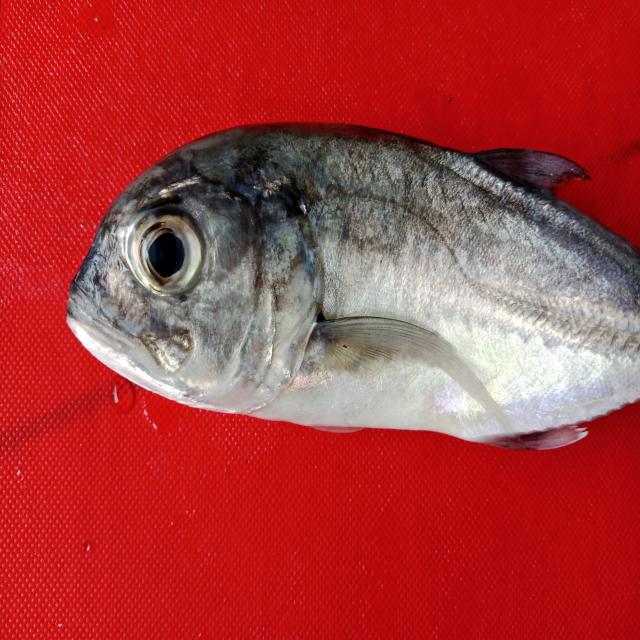ikan: (65, 120, 639, 451)
